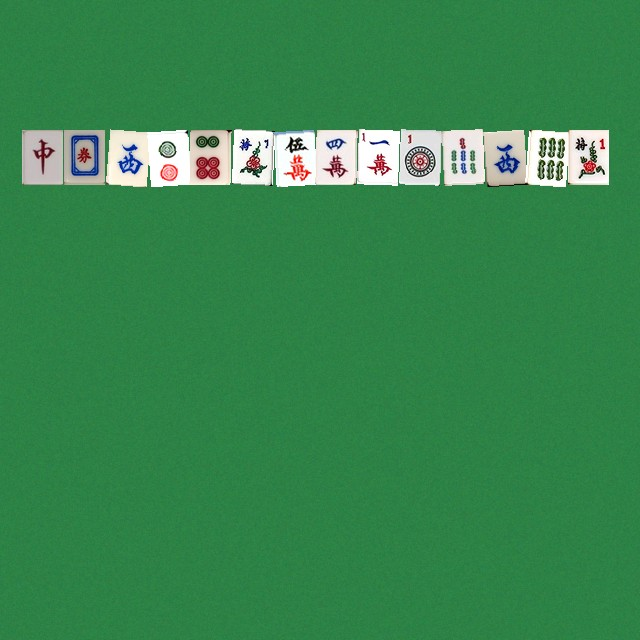tile: (21, 129, 62, 184), (63, 129, 104, 184), (105, 129, 146, 184), (147, 129, 188, 184), (189, 129, 230, 184), (231, 129, 272, 184), (273, 129, 314, 184), (315, 129, 356, 184), (357, 129, 398, 184), (399, 129, 440, 184), (441, 129, 482, 184), (483, 129, 524, 184), (525, 129, 566, 184), (567, 129, 608, 184)
